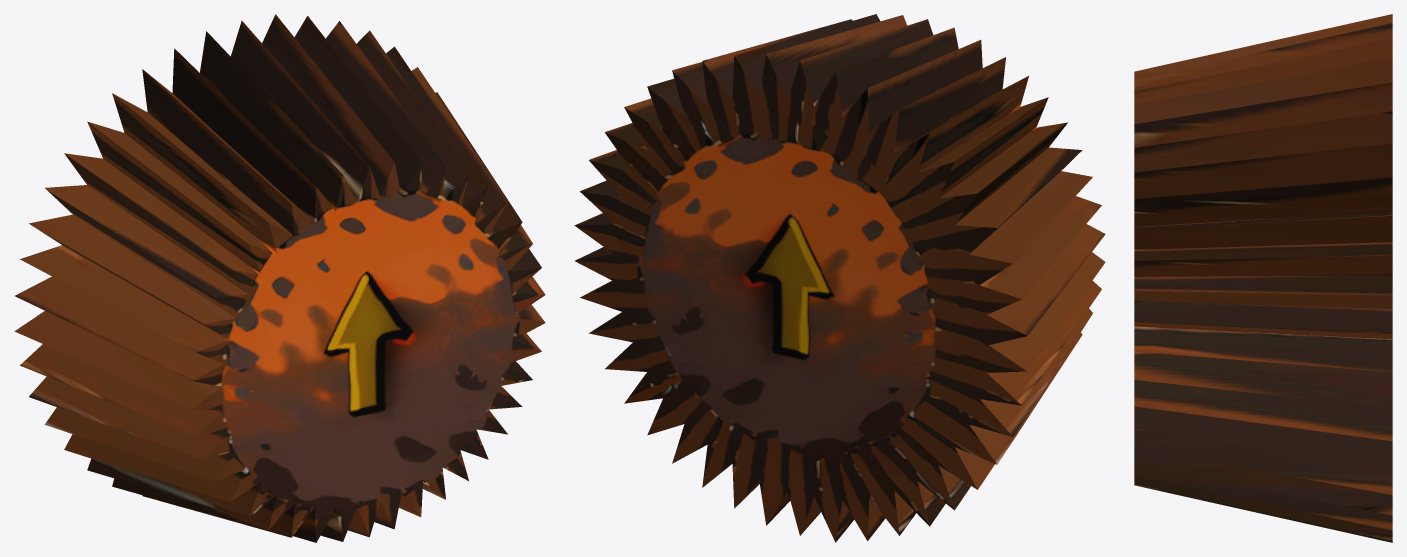
The model's file is Knob.glb.
3 renders of one model, left to right at view 1: azimuth 30°, elevation 25°; view 2: azimuth 150°, elevation 25°; view 3: azimuth 270°, elevation 25°, orthographic.
Visible parts, largest first — view 1: Knob; view 2: Knob; view 3: Knob.
Part boxes in pixels (x1,y1,x2,y2): Knob: (14,14,545,542); Knob: (574,14,1105,542); Knob: (1134,14,1392,542).
Size of the model in its own units: 60.78 by 60.95 by 29.71.
1 material, 1 textured.
